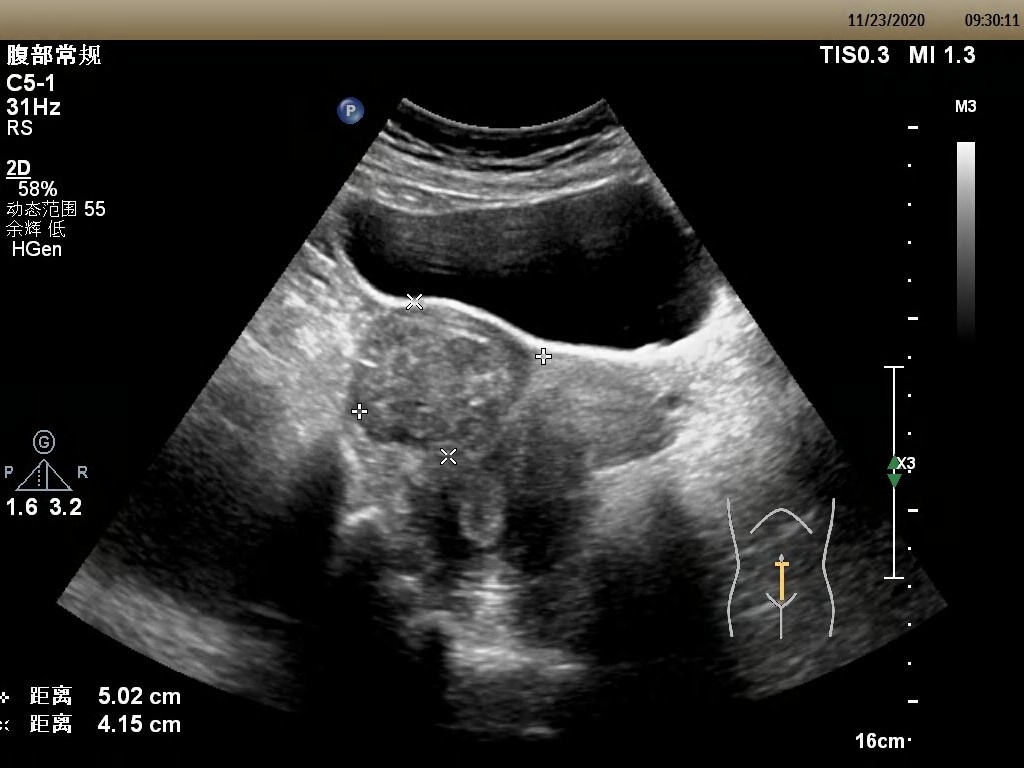肌瘤: (359, 303, 544, 456)
